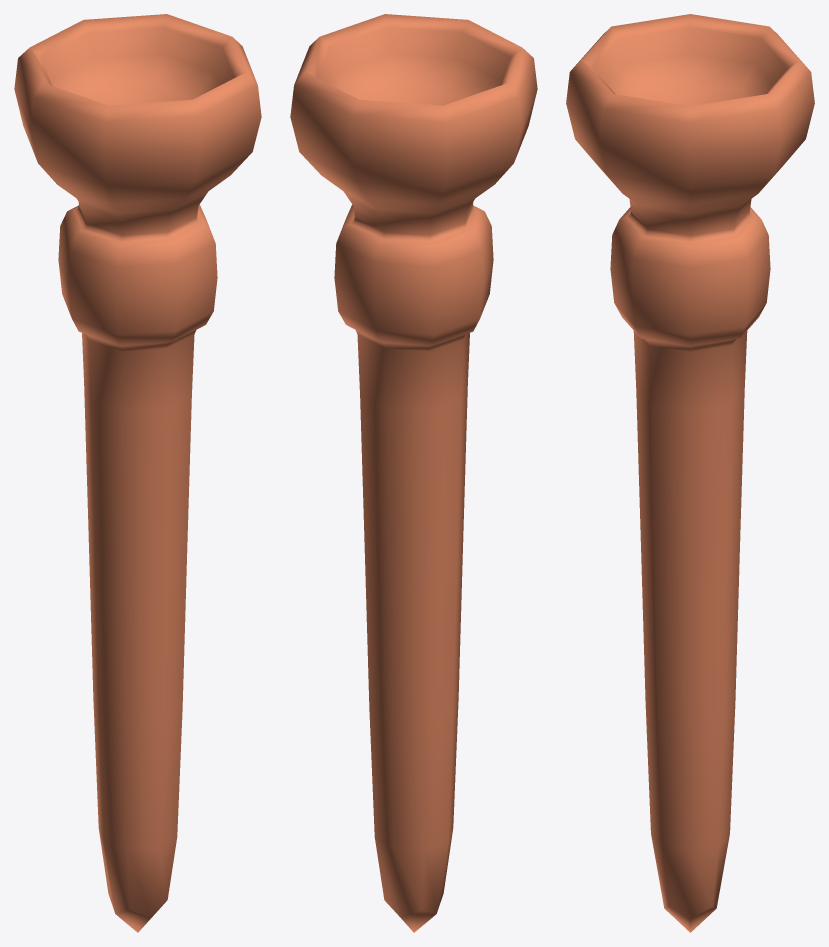
The model's file is torch.glb.
The picture shows the model from 3 angles, left to right: view 1: azimuth 30°, elevation 25°; view 2: azimuth 150°, elevation 25°; view 3: azimuth 270°, elevation 25°; orthographic projection.
Parts seen in each view (by area): view 1: Torch; view 2: Torch; view 3: Torch.
Part boxes in pixels (<box>): Torch: <box>14,14,261,932</box>; Torch: <box>290,14,537,932</box>; Torch: <box>566,14,814,932</box>.
Size of what is drawn, in the model's own units: 0.161 by 0.623 by 0.161.
